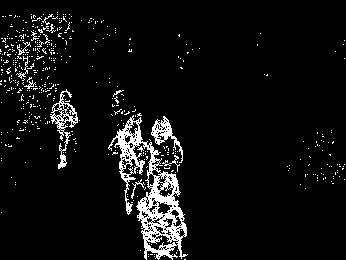person: (111, 111, 155, 212), (137, 175, 189, 260), (146, 115, 184, 175), (51, 90, 78, 169)
